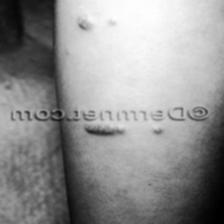Toxin: (69, 124, 164, 150), (70, 15, 124, 45)
